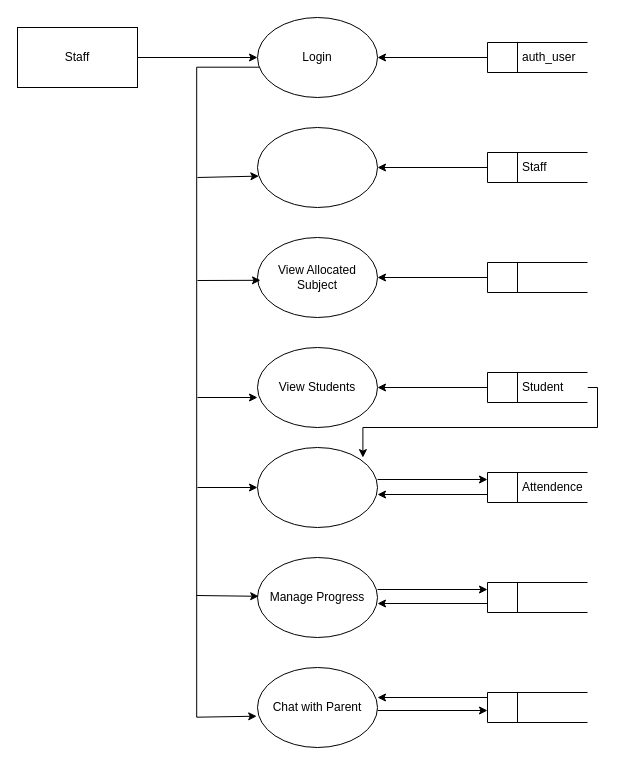
The diagram is 623 pixels wide and 765 high, and some of its shapes have lost their labels. Here are the shapes that lost their labels. From the top down, the box of each, then its label:
(256, 126, 378, 208): View Profile
(486, 262, 588, 292): Allocation
(256, 446, 378, 528): Manage Atttendence
(486, 582, 588, 612): Progresscard
(486, 692, 588, 722): Chat
